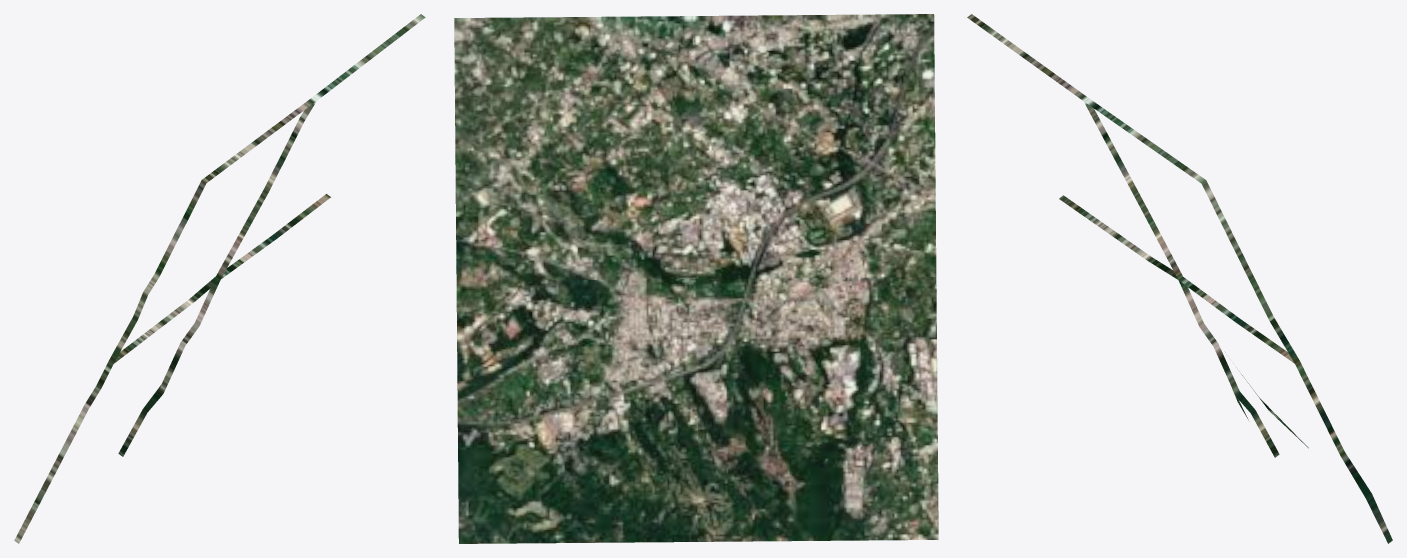
The picture shows the model from 3 angles, left to right: view 1: azimuth 30°, elevation 25°; view 2: azimuth 150°, elevation 25°; view 3: azimuth 270°, elevation 25°; orthographic projection. The views are drawn at different scales.
Bounding box in the file's own units: 9883 × 8871 × 8315.
Materials: 1 (1 with a texture image).
